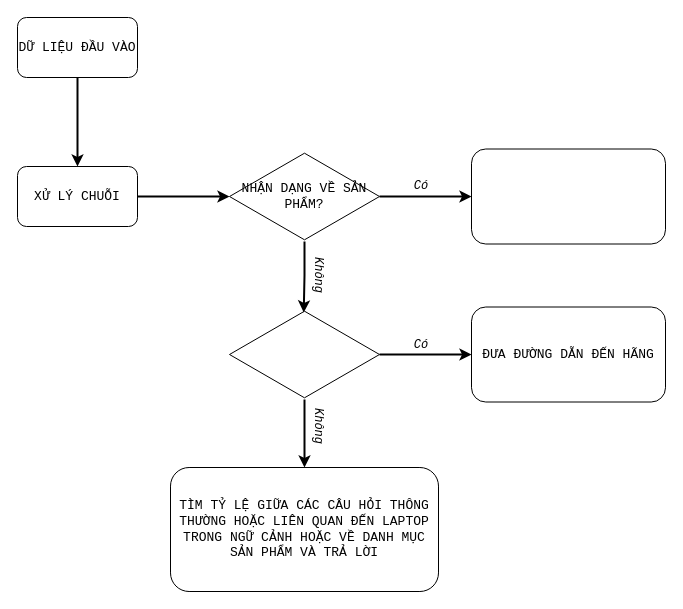
Some shapes in this 683 by 609 pixel diagram are drawn without their labels. Here are the shapes that lost their labels. From the top down, the centre of each, then its label:
At (x=568, y=196): "TÌM TỶ LỆ GIỮA CÁC CÂU HỎI LIÊN QUAN ĐẾN LAPTOP VÀ TRẢ LỜI".
At (x=304, y=354): "NHẬN DẠNG VỀ HÃNG SẢN XUẤT?".
